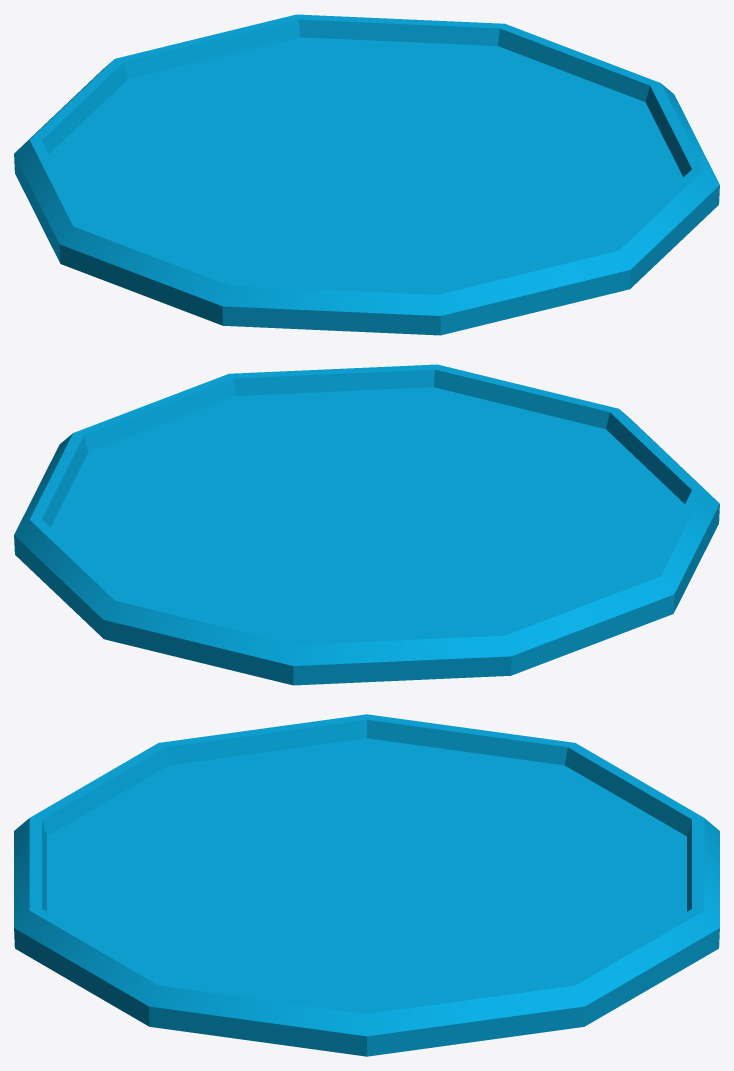
File: Paint_Bucket_02_Lid_Lod1.fbx
3 views of the same model, one above another, from view 1: azimuth 30°, elevation 25°; view 2: azimuth 150°, elevation 25°; view 3: azimuth 270°, elevation 25° (orthographic). The views are drawn at different scales.
Visible parts, largest first — view 1: Paint_Bucket_02_Lid_Lod1; view 2: Paint_Bucket_02_Lid_Lod1; view 3: Paint_Bucket_02_Lid_Lod1.
Part boxes in pixels (x1,y1,x2,y2): Paint_Bucket_02_Lid_Lod1: [14, 14, 719, 335]; Paint_Bucket_02_Lid_Lod1: [14, 364, 719, 685]; Paint_Bucket_02_Lid_Lod1: [14, 714, 719, 1056].
Size of the model in its own units: 22.12 by 1.19 by 21.04.
